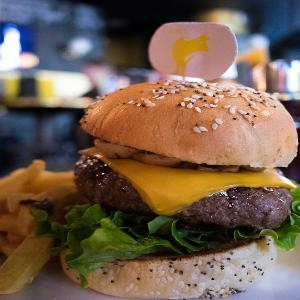cheeseburger_475cal: (68, 67, 297, 297)
